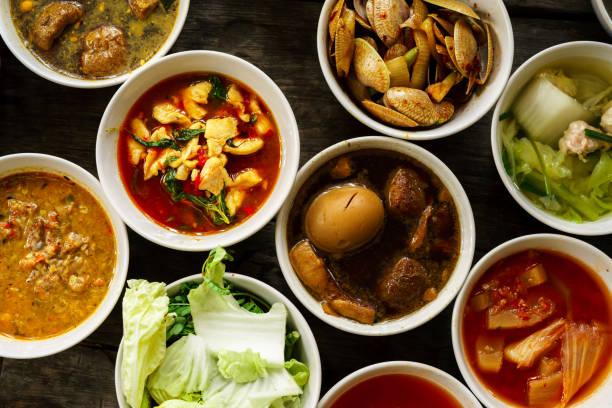Braised Crucian Carp: (95, 51, 293, 251), (275, 135, 471, 335), (315, 1, 512, 142), (450, 233, 610, 406), (115, 272, 316, 404), (2, 152, 130, 356), (490, 38, 612, 241)
